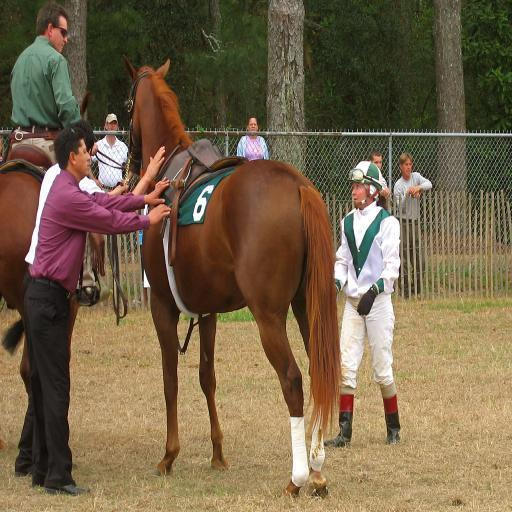horse: (122, 56, 342, 502), (0, 90, 92, 454)
